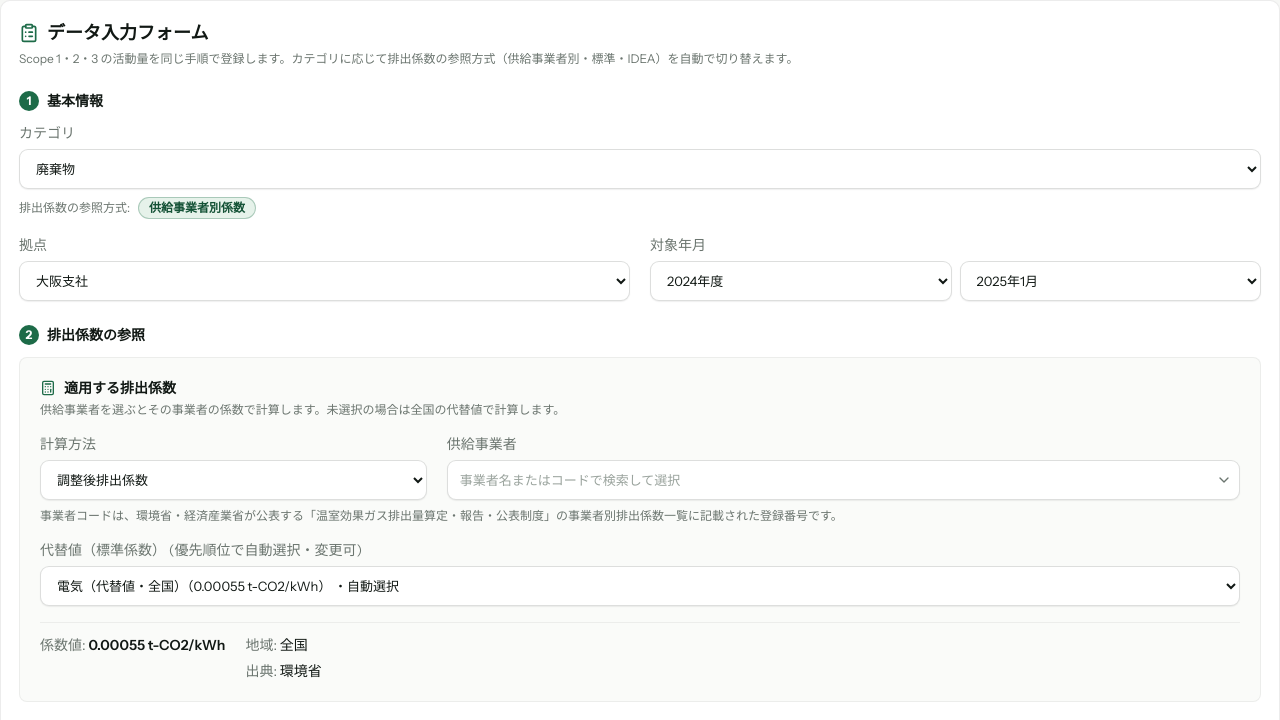
Test: ActivityEntryForm › 廃棄物: カテゴリ5が直接入力を採用中なら、反映されない旨と Scope分析画面への導線を出す
Select "廃棄物" in the dropdown with id "manual-category-select" at (640, 169), box [19,149,1261,189]
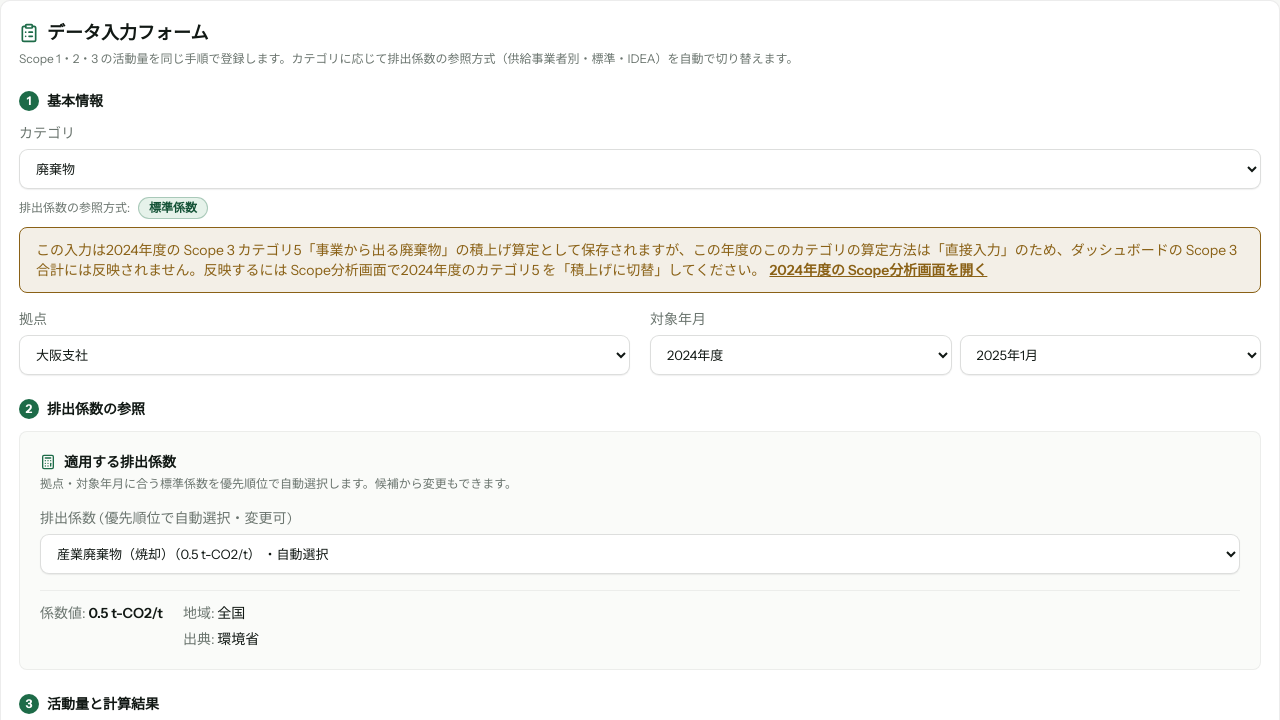
Expected: the element with test id "manual-scope3-method-notice" is shown, [19,227,1261,293]
Expected: the element with test id "manual-scope3-method-notice" shows "カテゴリ5「事業から出る廃棄物」", [36,241,1237,279]
Expected: the element with test id "manual-scope3-method-notice" shows "ダッシュボードの Scope 3 合計には反映されません", [36,241,1237,279]
